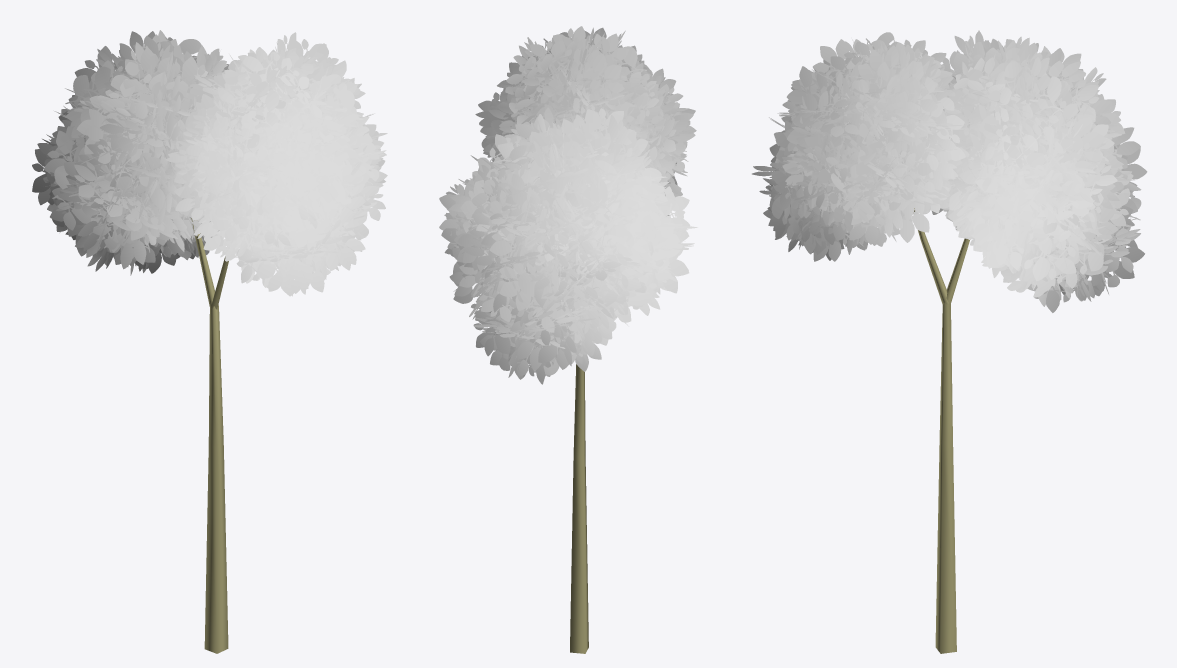
Rendered from ShortTree2.fbx.
The picture shows the model from 3 angles, left to right: view 1: azimuth 30°, elevation 25°; view 2: azimuth 150°, elevation 25°; view 3: azimuth 270°, elevation 25°; orthographic projection. The views are drawn at different scales.
Visible parts, largest first — view 1: Leaves2.1, Leaves2, Trunk2; view 2: Leaves2, Leaves2.1, Trunk2; view 3: Leaves2, Leaves2.1, Trunk2.
Boxes of the visible parts, <box> form: Leaves2.1: <box>165,32,387,296</box>; Leaves2: <box>32,30,229,275</box>; Trunk2: <box>191,218,228,653</box>; Leaves2: <box>439,107,697,384</box>; Leaves2.1: <box>475,26,696,215</box>; Trunk2: <box>570,364,588,653</box>; Leaves2: <box>932,30,1147,312</box>; Leaves2.1: <box>752,32,967,261</box>; Trunk2: <box>914,208,969,653</box>.
Bounding box in the file's own units: 286 × 589 × 357.
